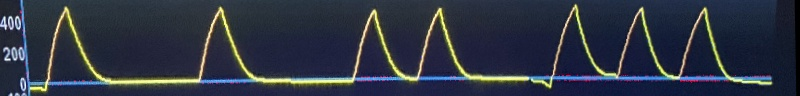normal_volume: (44, 0, 752, 93)
